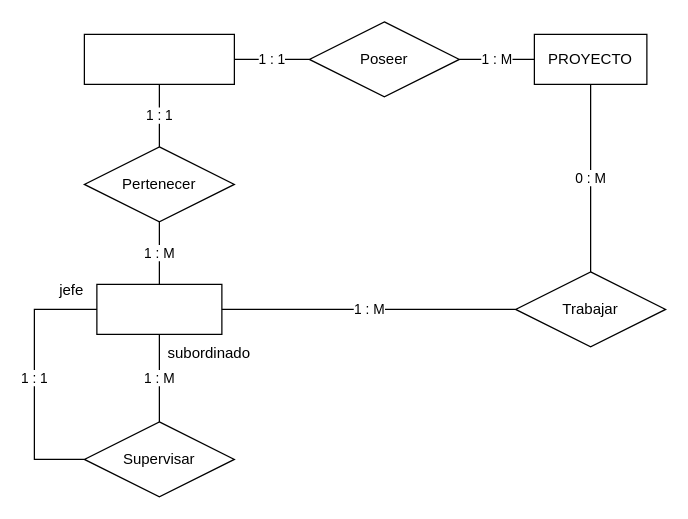
Some shapes in this 688 by 519 pixel diagram are drawn without their labels. The shapes that lost their labels are listed below. From the top down, each one's centre as x and y in pixels, then its label:
At (158,58): "DEPARTAMENTO".
At (159,308): "EMPLEADO".
